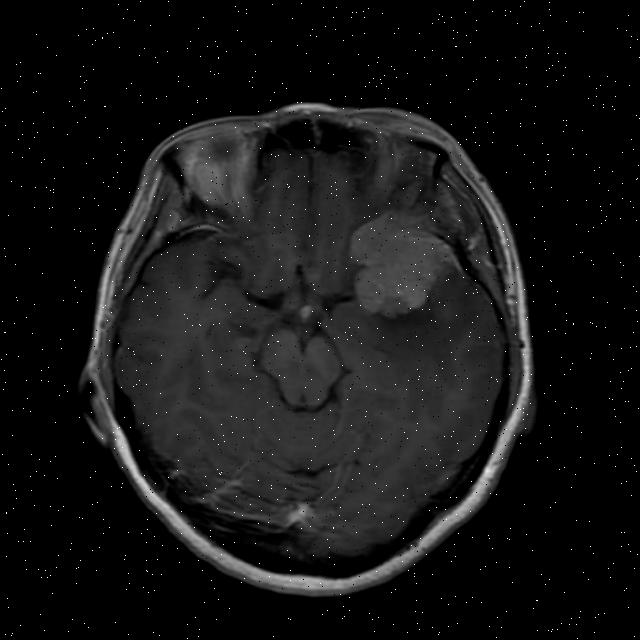Meningioma: (340, 208, 459, 325)
